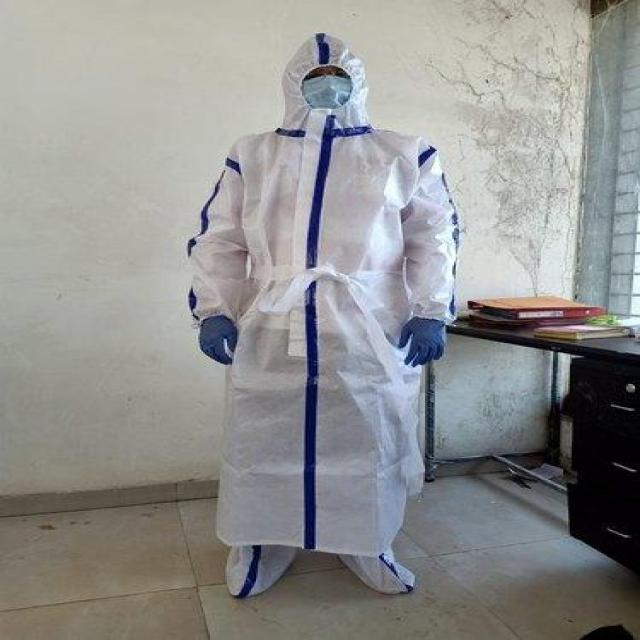Coverall: (177, 30, 473, 610)
Gloves: (396, 315, 451, 367), (195, 311, 243, 370)
Mask: (301, 76, 354, 110)
